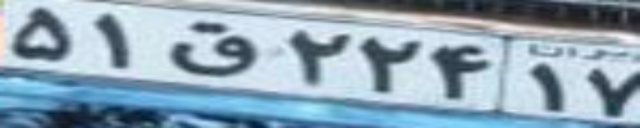1: (91, 12, 129, 68), (526, 61, 564, 111)
2: (355, 36, 418, 92), (288, 29, 345, 86)
4: (431, 44, 492, 99)
5: (12, 5, 73, 60)
7: (585, 66, 639, 116)
ghaf: (168, 21, 258, 79)
